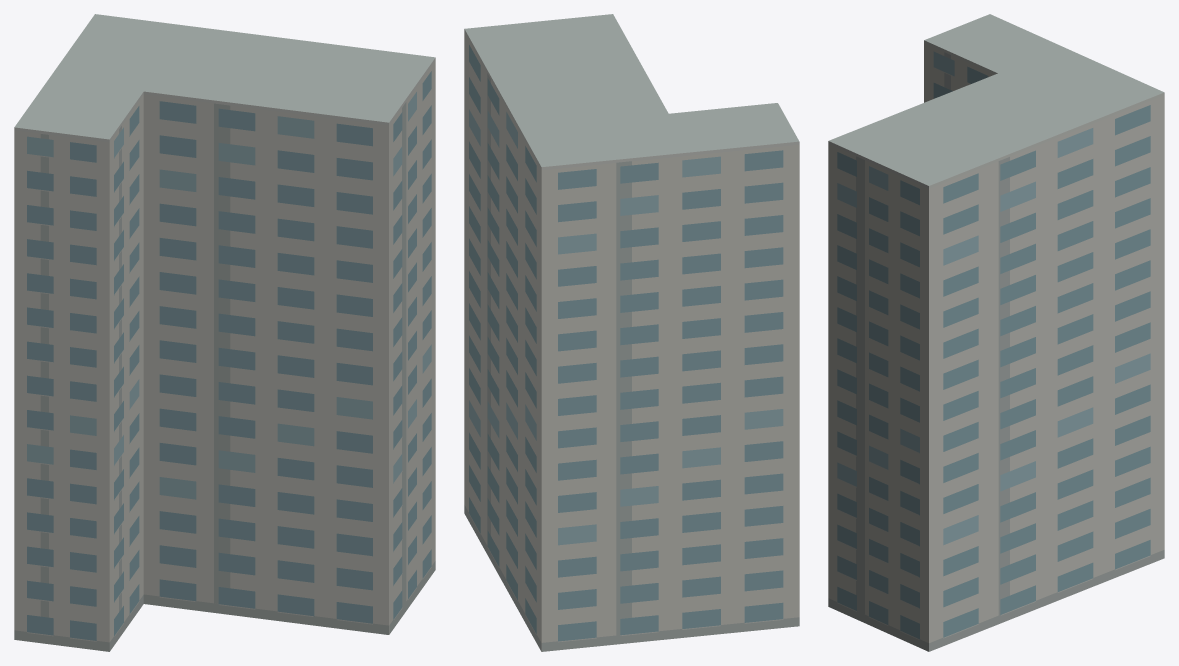
File: residential-c6a4567a-0717-4f5d-a2a0-4aefe0ce38e7.glb
3 views of the same model, side by side, from view 1: azimuth 30°, elevation 25°; view 2: azimuth 150°, elevation 25°; view 3: azimuth 270°, elevation 25° (orthographic). The views are drawn at different scales.
Visible parts, largest first — view 1: residential-c6a4567a-0717-4f5d-a2a0-4aefe0ce38e7.tmp; view 2: residential-c6a4567a-0717-4f5d-a2a0-4aefe0ce38e7.tmp; view 3: residential-c6a4567a-0717-4f5d-a2a0-4aefe0ce38e7.tmp.
Part boxes in pixels (bbox=[...]): residential-c6a4567a-0717-4f5d-a2a0-4aefe0ce38e7.tmp: bbox=[14, 14, 435, 651]; residential-c6a4567a-0717-4f5d-a2a0-4aefe0ce38e7.tmp: bbox=[464, 14, 799, 651]; residential-c6a4567a-0717-4f5d-a2a0-4aefe0ce38e7.tmp: bbox=[828, 14, 1164, 651].
Size of the model in its own units: 31.69 by 40 by 26.17.
